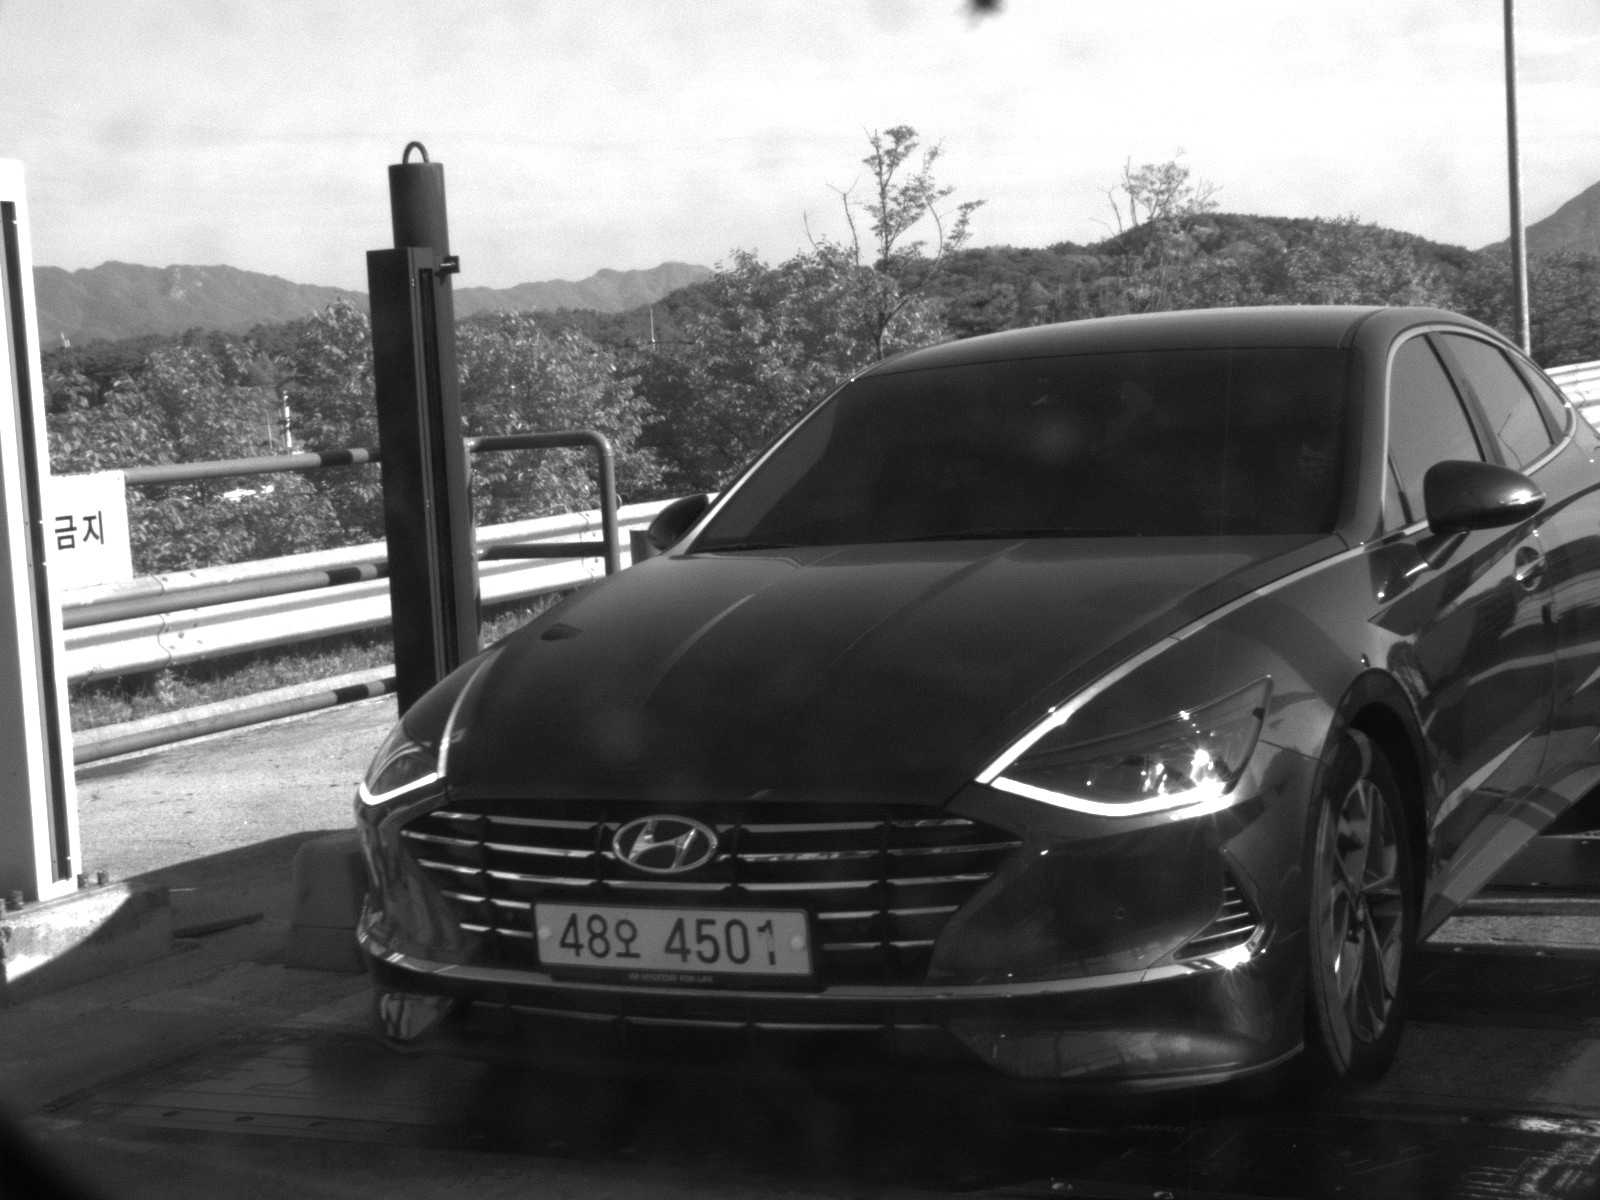car: (345, 300, 1600, 1105)
plate: (530, 902, 820, 983)
